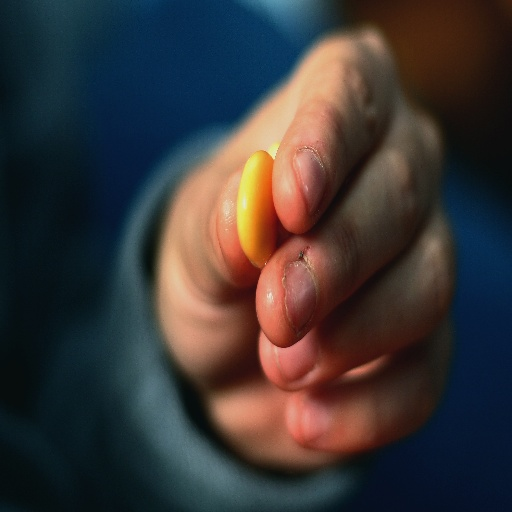hand: (172, 37, 462, 468)
